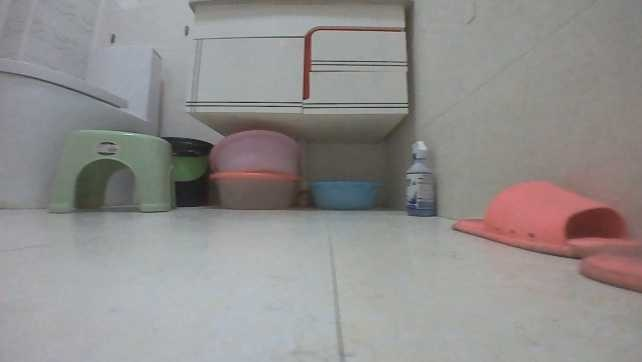plastic_stool: (44, 124, 175, 212)
slipper: (452, 175, 641, 261)
toilet: (0, 36, 163, 210)
washstand: (182, 0, 408, 133)
